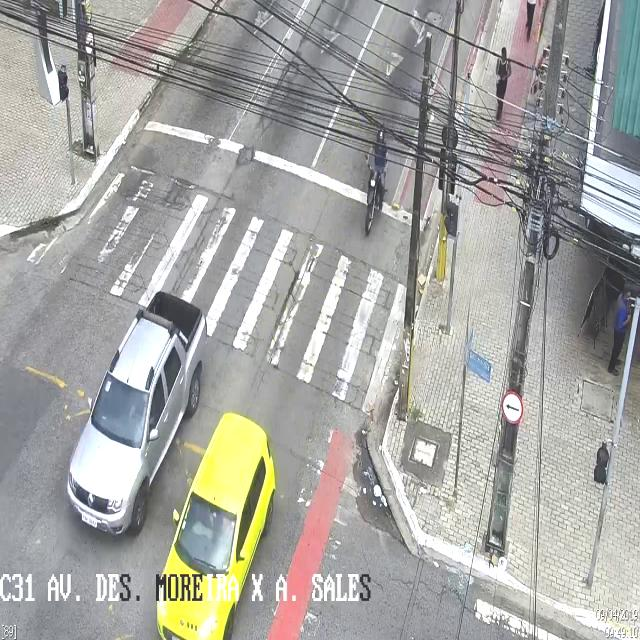Car: (64, 289, 202, 531), (156, 413, 272, 639)
Motorcycle: (364, 120, 389, 241)
